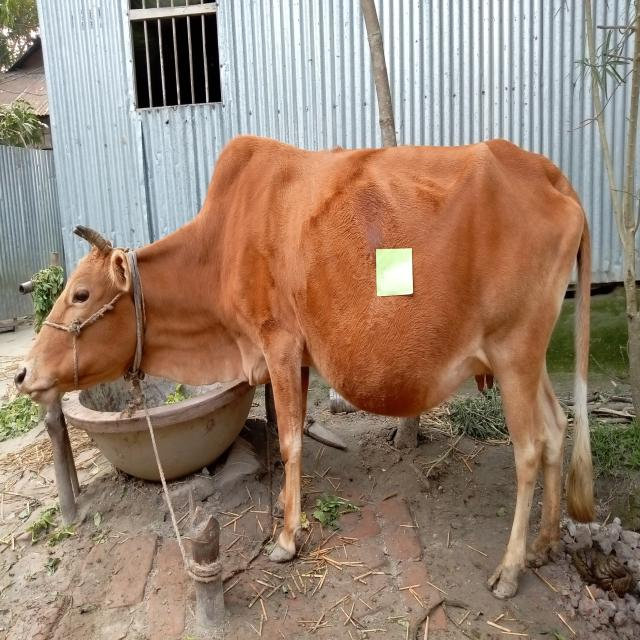badan_sapi: (265, 152, 545, 376)
sapi: (17, 133, 610, 604)
